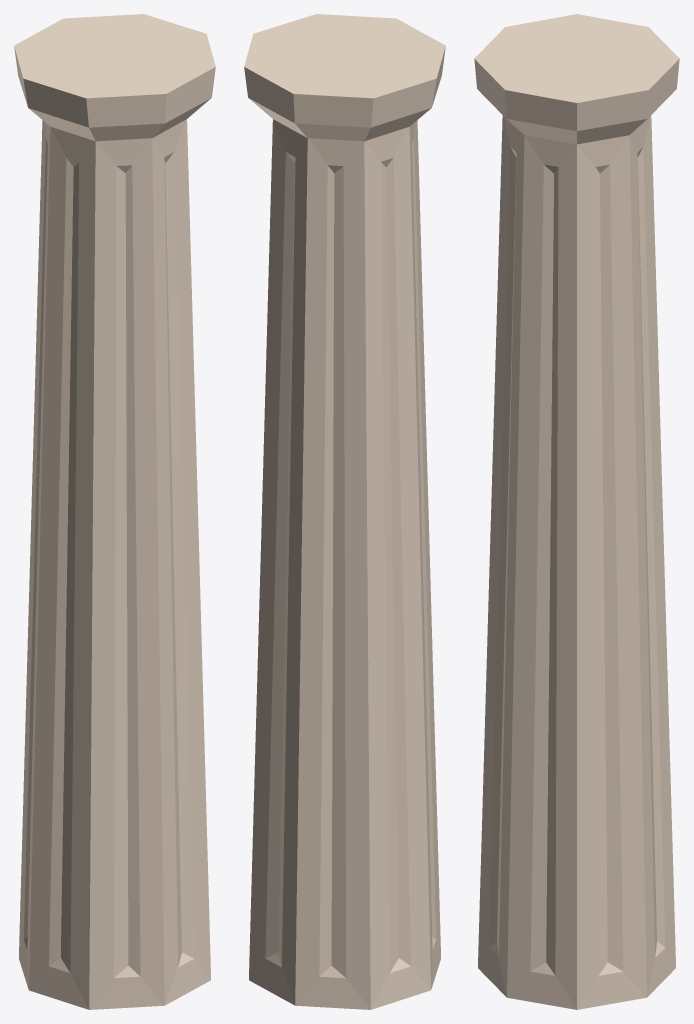
The model's file is pillar-doric-big.glb.
3 views of the same model, side by side, from view 1: azimuth 30°, elevation 25°; view 2: azimuth 150°, elevation 25°; view 3: azimuth 270°, elevation 25° (orthographic).
Parts seen in each view (by area): view 1: pillar-doric-big; view 2: pillar-doric-big; view 3: pillar-doric-big.
Part boxes in pixels (x1,y1,x2,y2): pillar-doric-big: (14, 14, 215, 1009); pillar-doric-big: (244, 14, 445, 1009); pillar-doric-big: (474, 14, 679, 1009).
Size of the model in its own units: 2.11 by 10.02 by 2.05.
1 material, 1 textured.
